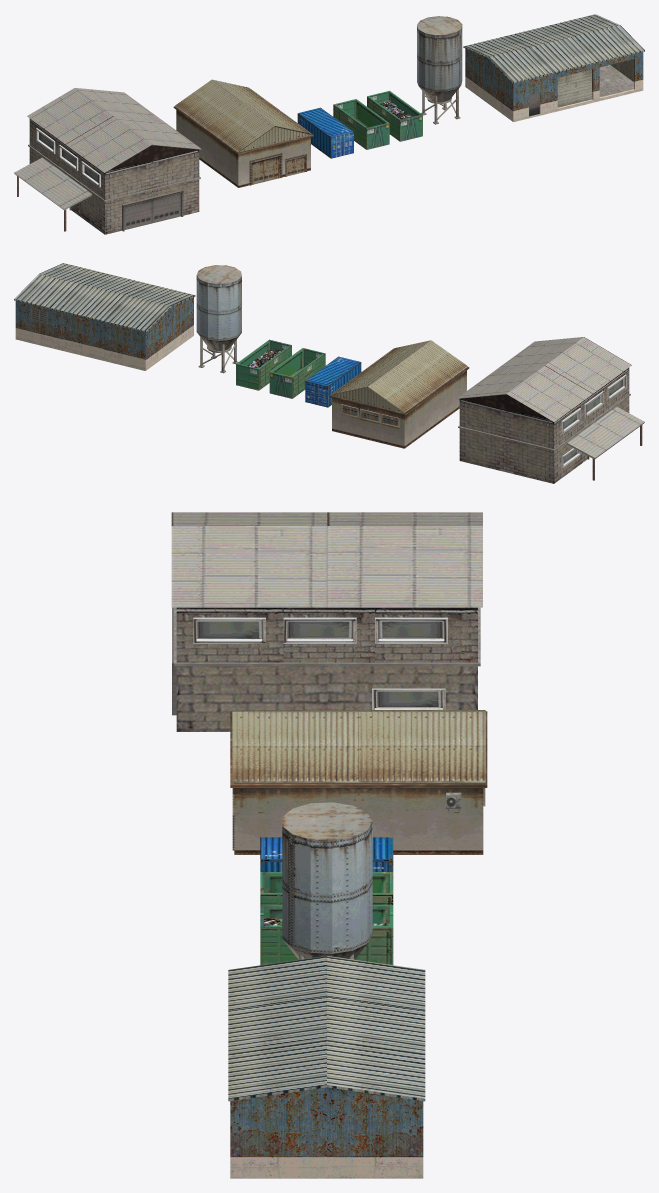
The model's file is psx_industrial_pack.glb.
3 renders of one model, top to bottom at view 1: azimuth 30°, elevation 25°; view 2: azimuth 150°, elevation 25°; view 3: azimuth 270°, elevation 25°, orthographic. The views are drawn at different scales.
Visible parts, largest first — view 1: Building02, Cube, Building01, LiquidReservoir, Container01, Trashcan01, Trashcan2; view 2: Building02, Cube, Building01, LiquidReservoir, Trashcan01, Trashcan2, Container01; view 3: Building02, Cube, Building01, LiquidReservoir, Trashcan2, Container01, Trashcan01.
Boxes of the visible parts, box(x1,y1,x2,y2) form: Building02: box(14, 88, 201, 234); Cube: box(463, 14, 644, 122); Building01: box(173, 79, 313, 187); LiquidReservoir: box(417, 16, 462, 124); Container01: box(297, 107, 353, 158); Trashcan01: box(333, 99, 389, 149); Trashcan2: box(367, 90, 422, 141); Building02: box(457, 337, 644, 483); Cube: box(14, 263, 195, 370); Building01: box(329, 340, 469, 448); LiquidReservoir: box(196, 265, 241, 373); Trashcan01: box(269, 348, 325, 398); Trashcan2: box(236, 339, 291, 390); Container01: box(305, 356, 361, 407); Building02: box(171, 512, 482, 731); Cube: box(228, 956, 425, 1178); Building01: box(230, 710, 487, 854); LiquidReservoir: box(282, 802, 372, 959); Trashcan2: box(260, 905, 393, 965); Container01: box(260, 837, 393, 871); Trashcan01: box(260, 872, 393, 904).
Bounding box in the file's own units: 131 × 19.58 × 30.72.
8 materials, 8 textured.
